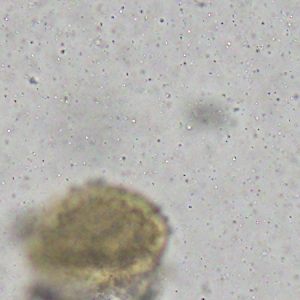Fasciola_hepatica_egg: (20, 179, 171, 287)
